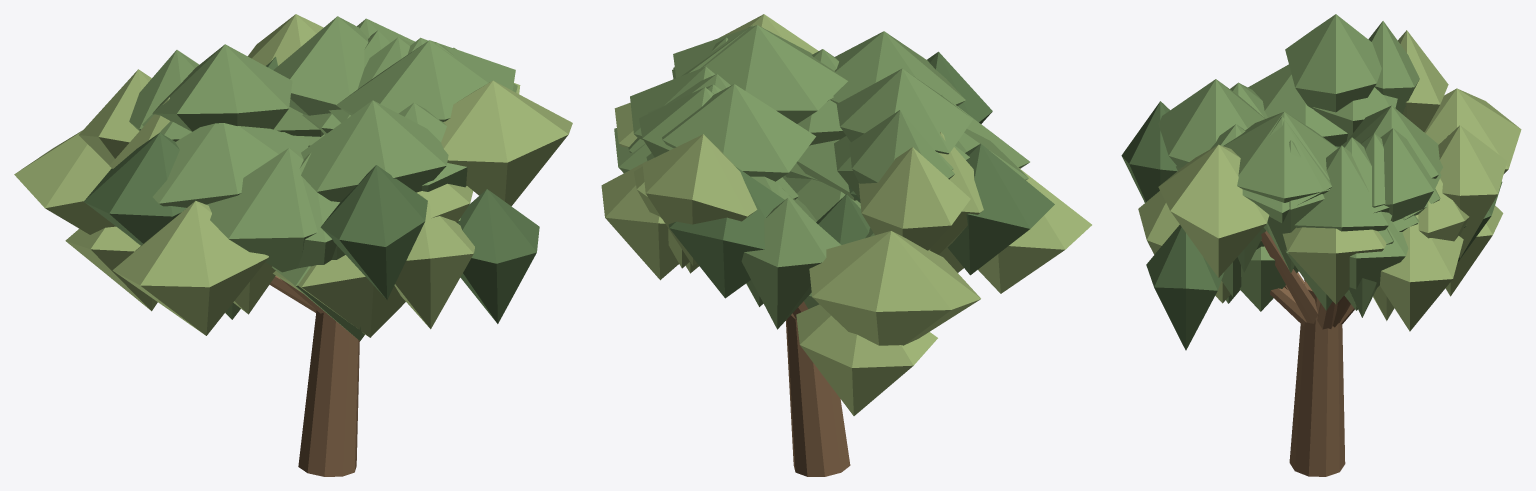
Rendered from willow.glb.
The picture shows the model from 3 angles, left to right: view 1: azimuth 30°, elevation 25°; view 2: azimuth 150°, elevation 25°; view 3: azimuth 270°, elevation 25°; orthographic projection. The views are drawn at different scales.
Parts seen in each view (by area): view 1: FieldWillow; view 2: FieldWillow; view 3: FieldWillow.
Part boxes in pixels (left/top/right/bottom): FieldWillow: left=14, top=14, right=572, bottom=476; FieldWillow: left=601, top=14, right=1091, bottom=476; FieldWillow: left=1121, top=14, right=1521, bottom=476.
Size of the model in its own units: 5.21 by 5.03 by 4.45.
